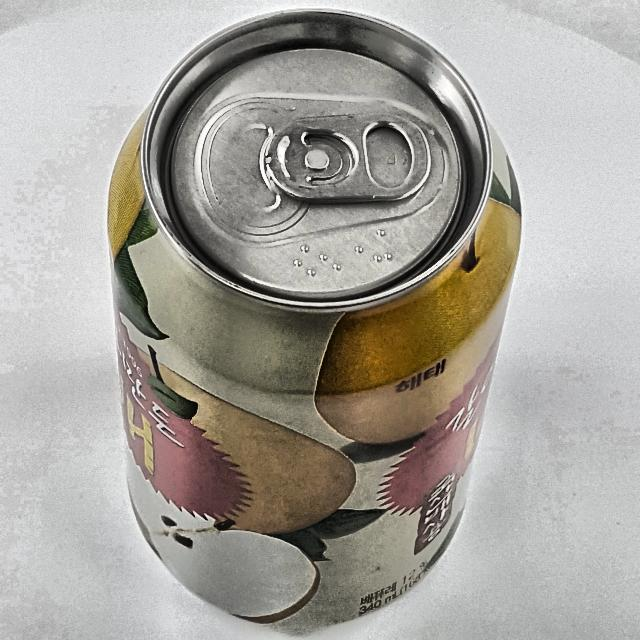galamandeunbae: (119, 107, 525, 624)
